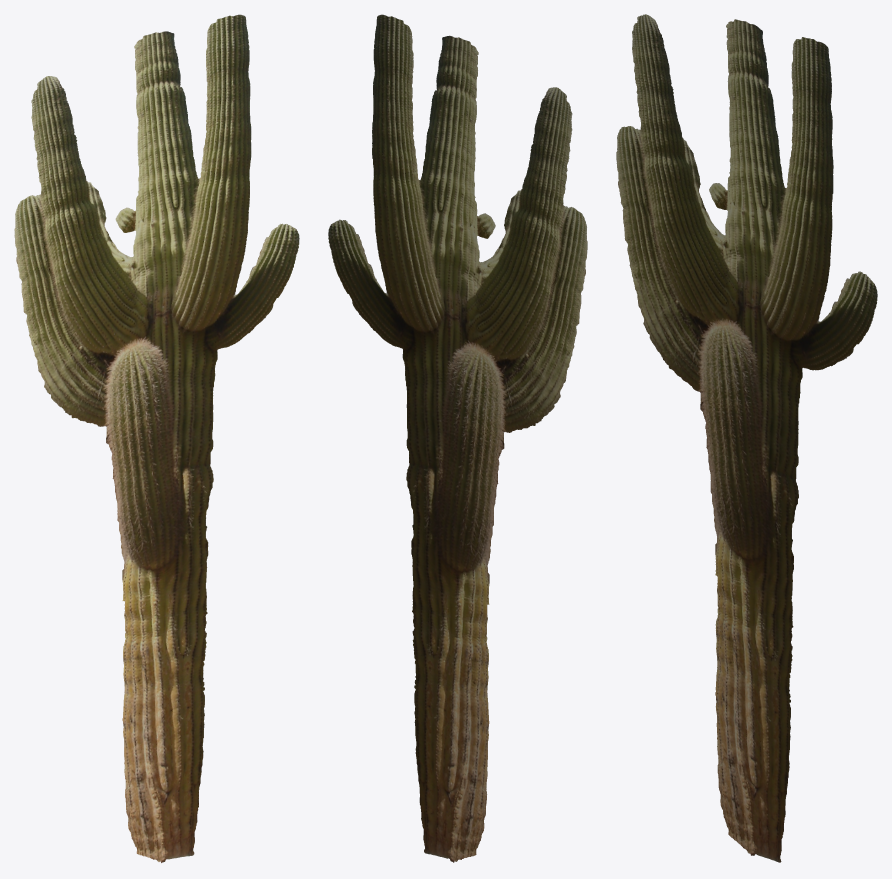
Rendered from BiG_Cac.fbx.
3 views of the same model, side by side, from view 1: azimuth 30°, elevation 25°; view 2: azimuth 150°, elevation 25°; view 3: azimuth 330°, elevation 25° (orthographic).
Parts seen in each view (by area): view 1: Component_1_1; view 2: Component_1_1; view 3: Component_1_1.
Boxes of the visible parts, x1,y1,x2,y2 form: Component_1_1: (14, 14, 299, 862); Component_1_1: (328, 14, 587, 862); Component_1_1: (616, 14, 877, 862).
Size of the model in its own units: 1.51 by 4.4 by 0.1151.
